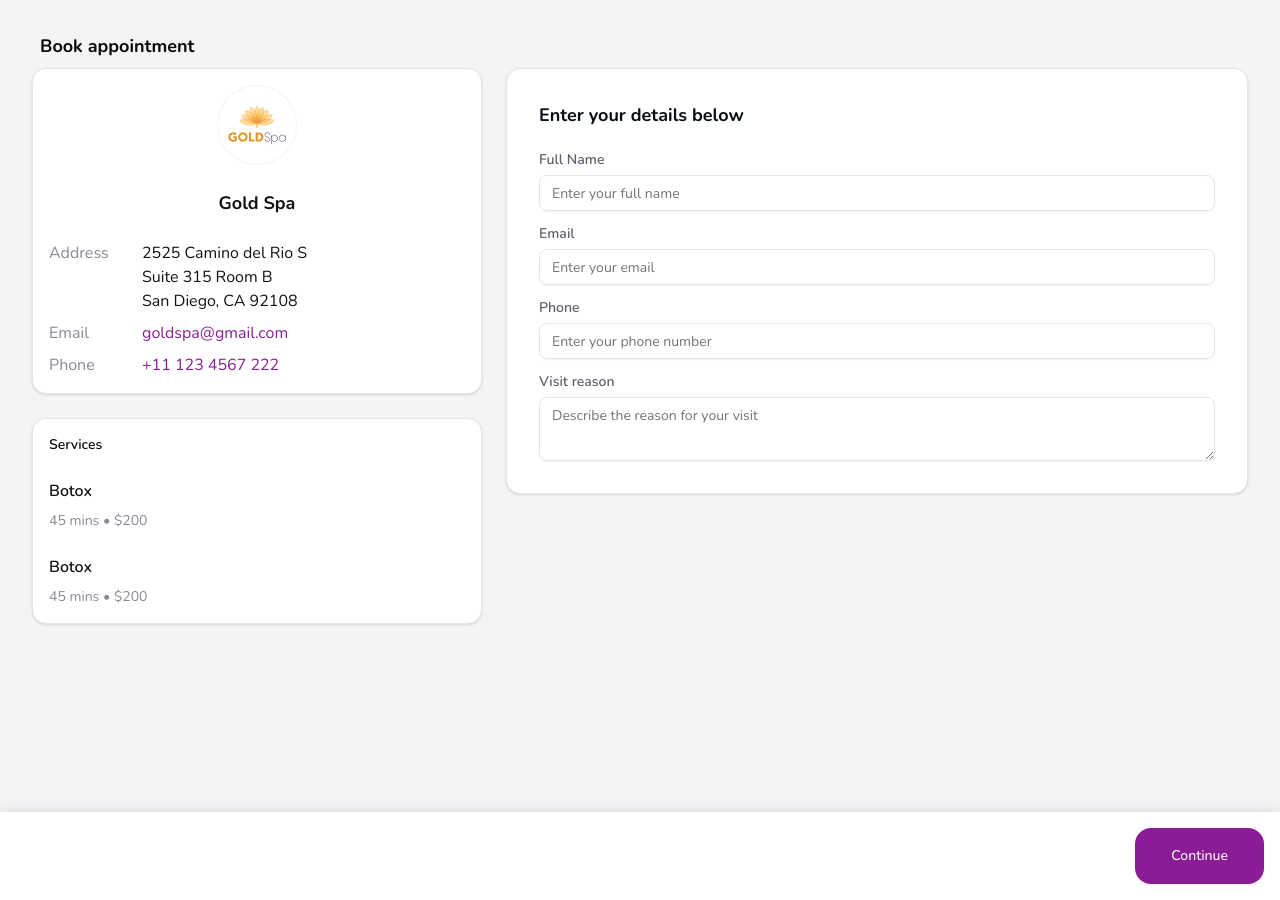
Test: ContactInformation › shows validation error for invalid email
Step 1. Type "invalid-email" into the field labelled "Email" → [877, 267], box x1=539 y1=249 x2=1215 y2=285
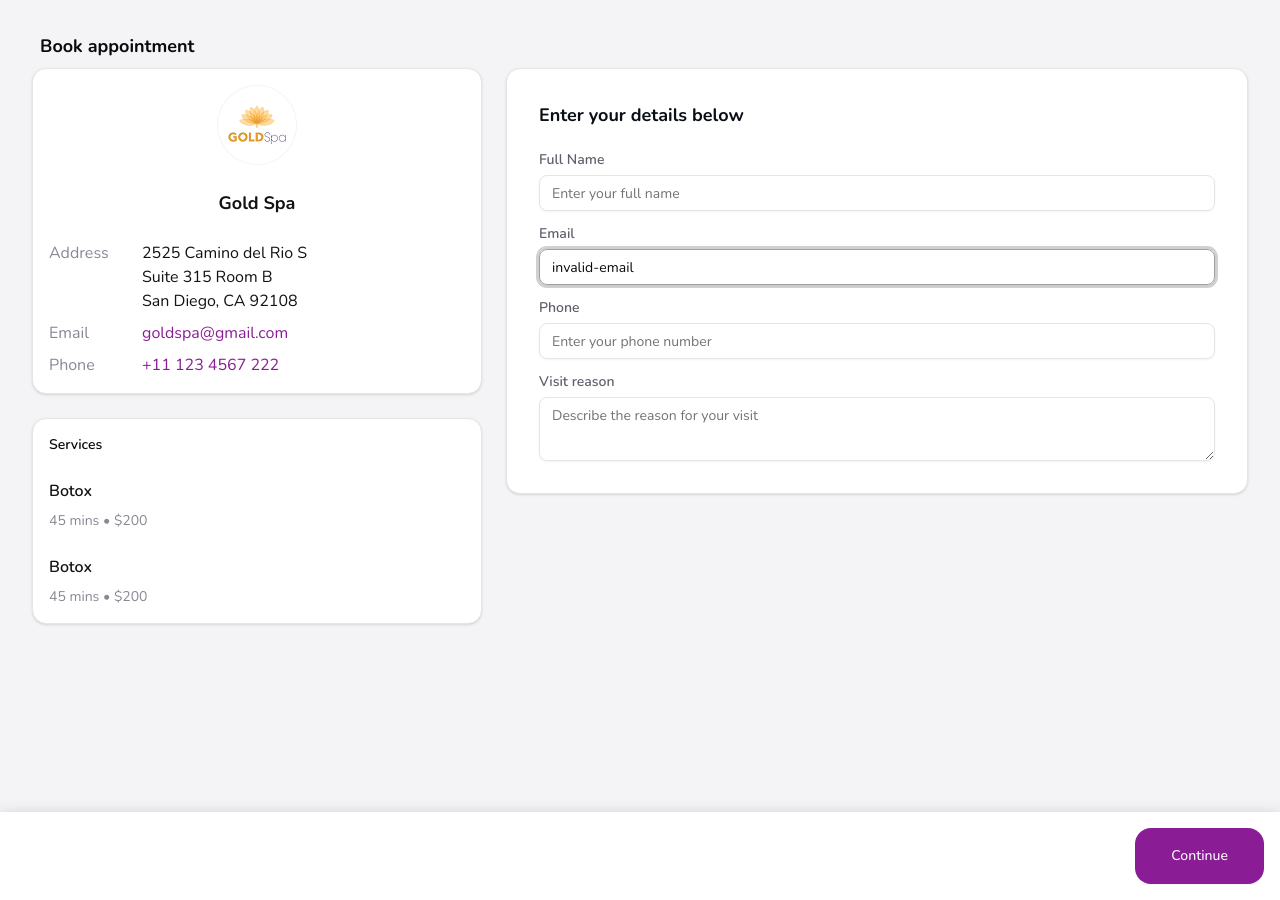
Step 2. Click the button "Continue" → [1200, 856], box x1=1135 y1=828 x2=1264 y2=884
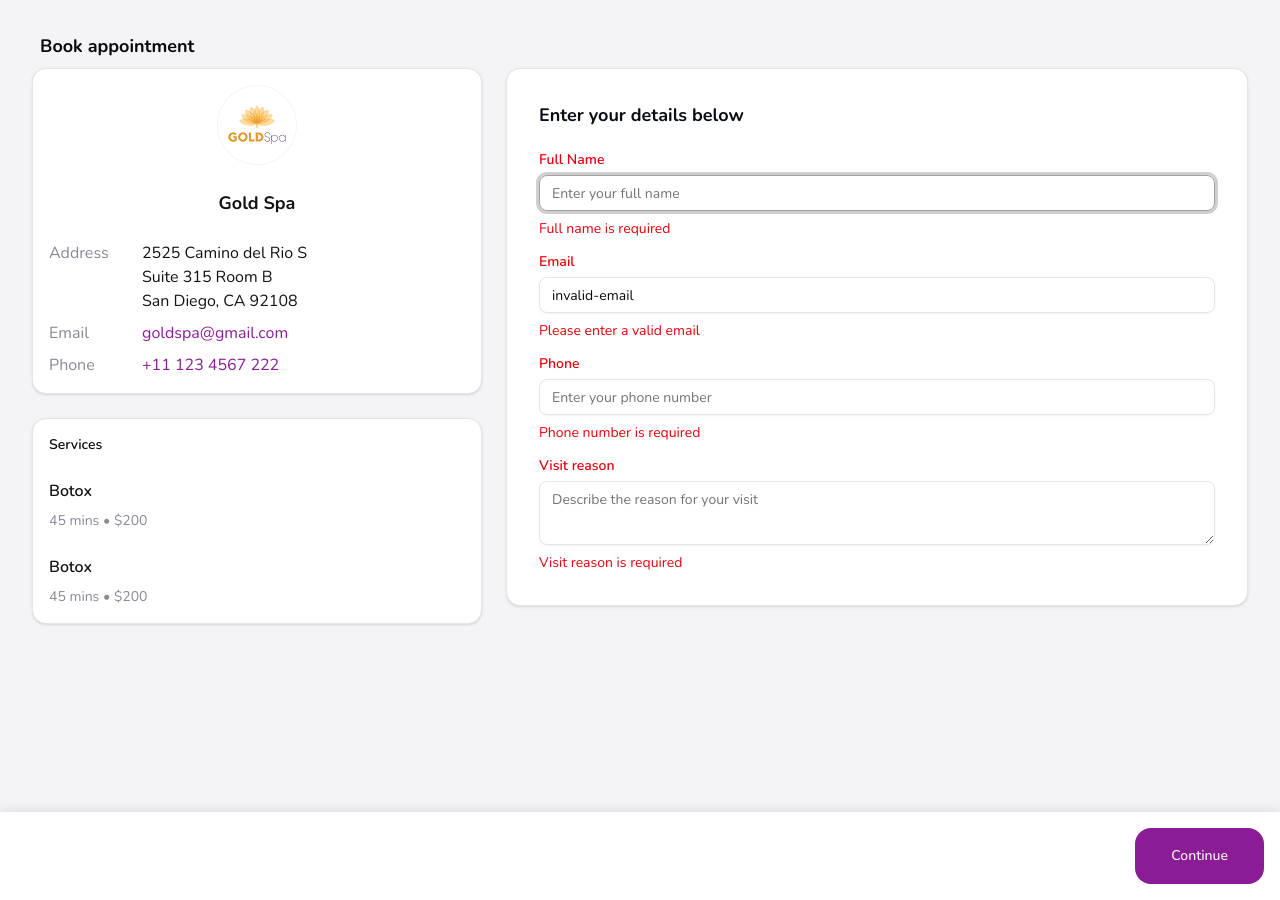
Expected: the text "Please enter a valid email" is shown, x1=539 y1=321 x2=700 y2=340
